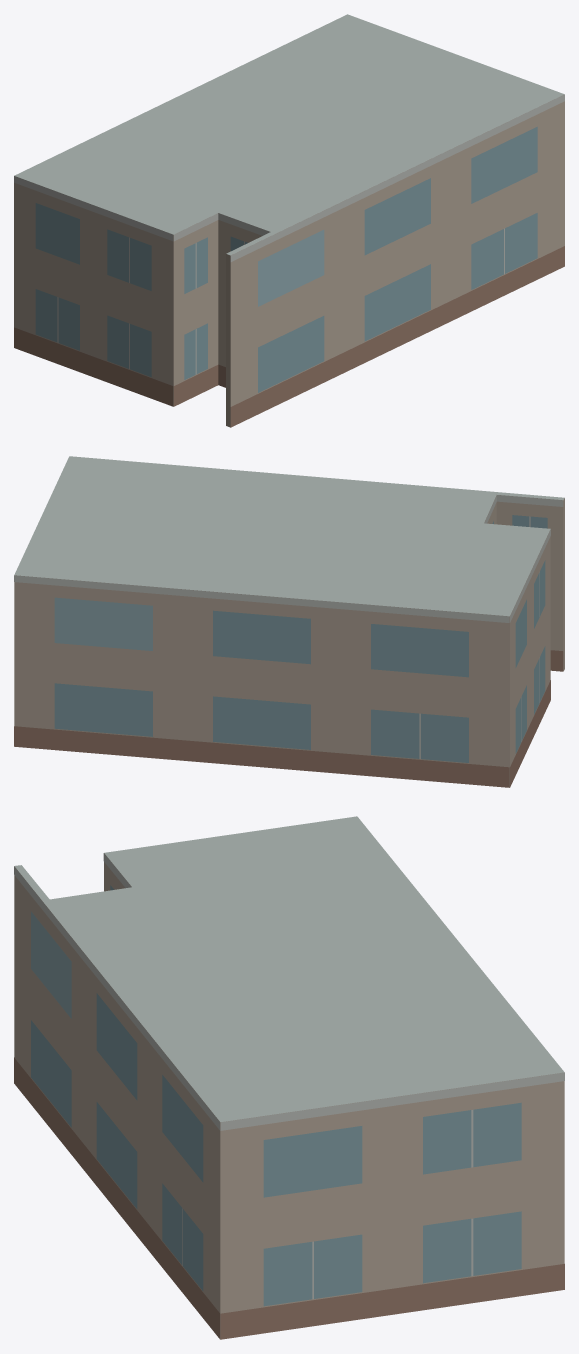
The model's file is survey-upis-32788384.glb.
The picture shows the model from 3 angles, top to bottom: view 1: azimuth 30°, elevation 25°; view 2: azimuth 150°, elevation 25°; view 3: azimuth 270°, elevation 25°; orthographic projection. The views are drawn at different scales.
Visible parts, largest first — view 1: survey-upis-32788384.tmp; view 2: survey-upis-32788384.tmp; view 3: survey-upis-32788384.tmp.
Part boxes in pixels (<box>): survey-upis-32788384.tmp: <box>14,14,564,427</box>; survey-upis-32788384.tmp: <box>14,456,564,787</box>; survey-upis-32788384.tmp: <box>14,816,564,1339</box>.
Bounding box in the file's own units: 18.43 × 6.1 × 14.01.
